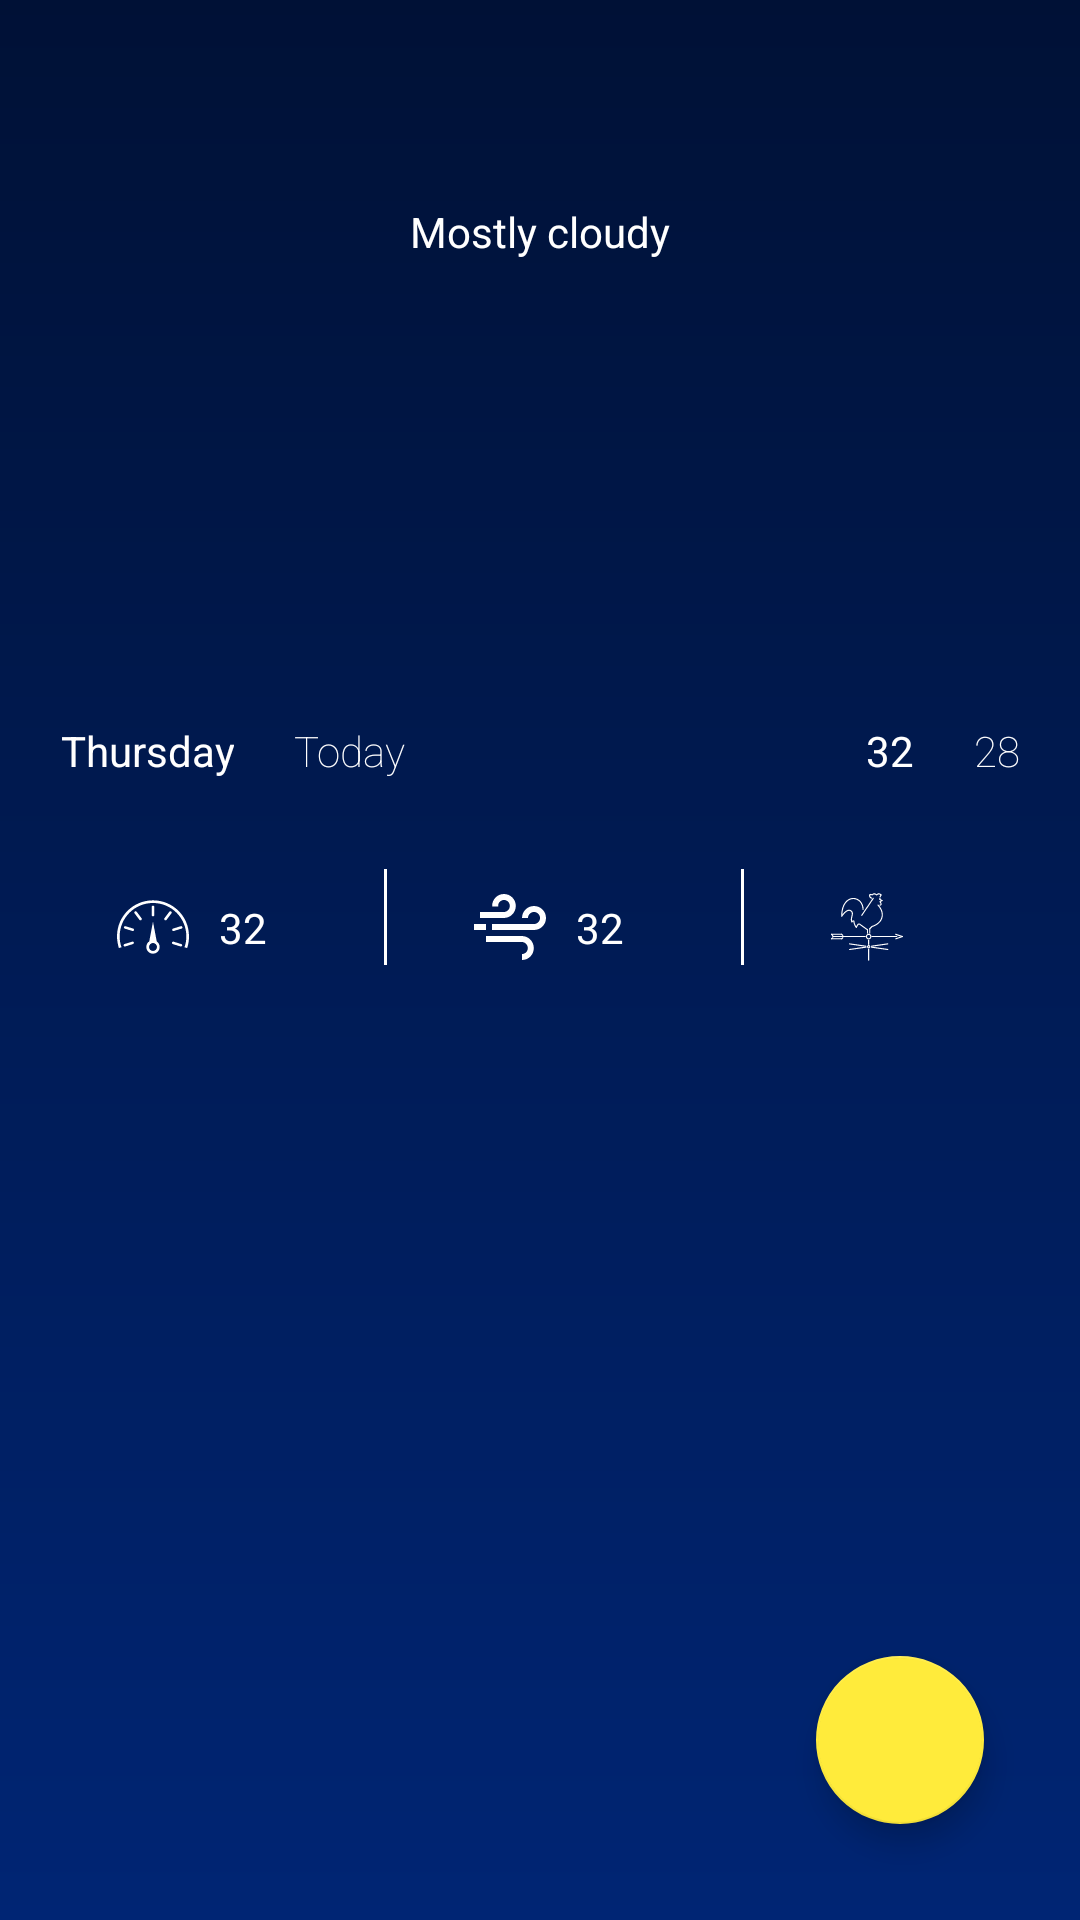

Icon click points for this 1080*1920 phone screenshot, format point (x, y):
barometer: point (153, 927)
breeze: point (510, 927)
weather: point (867, 927)
